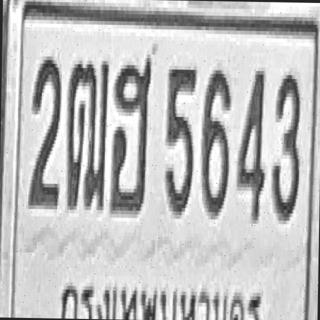A18: (65, 56, 110, 210)
A44: (109, 54, 152, 214)
N02: (27, 52, 61, 209)
N03: (271, 71, 301, 221)
N04: (236, 67, 266, 224)
N05: (164, 64, 196, 217)
N06: (200, 64, 232, 218)
